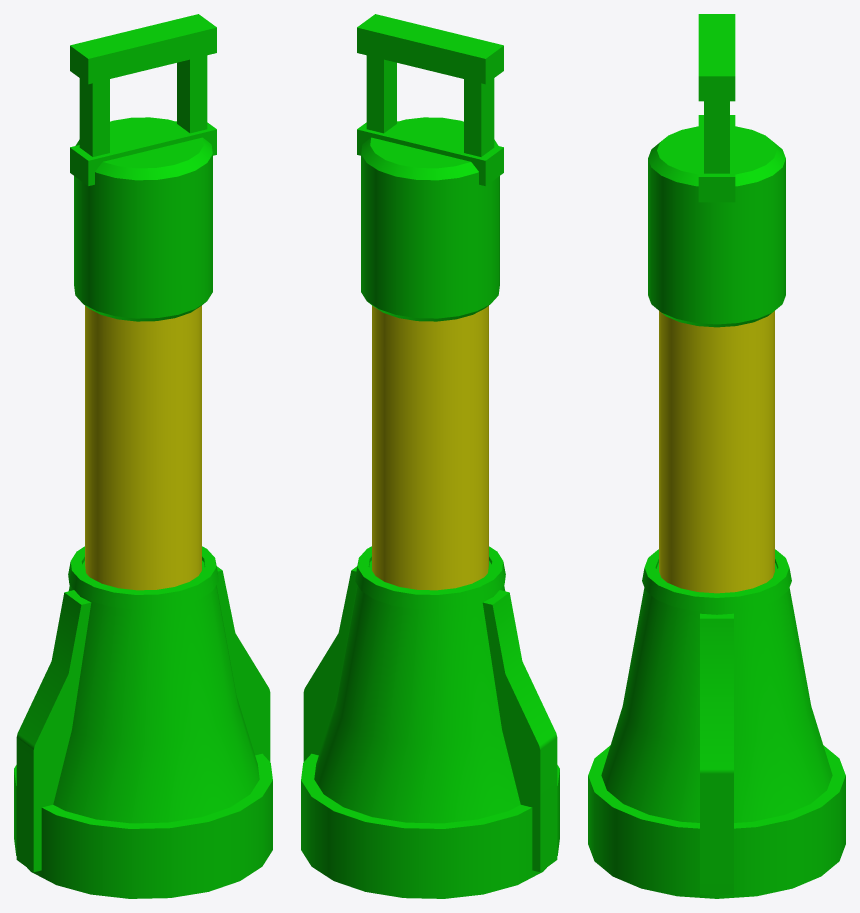
Rendered from Lampe01.fbx.
3 views of the same model, side by side, from view 1: azimuth 30°, elevation 25°; view 2: azimuth 150°, elevation 25°; view 3: azimuth 270°, elevation 25° (orthographic).
Visible parts, largest first — view 1: pCylinder22; view 2: pCylinder22; view 3: pCylinder22.
Part boxes in pixels (x1,y1,x2,y2): pCylinder22: (14, 14, 272, 898); pCylinder22: (301, 14, 559, 898); pCylinder22: (588, 14, 845, 898).
Bounding box in the file's own units: 4.65 × 15.17 × 4.43.
